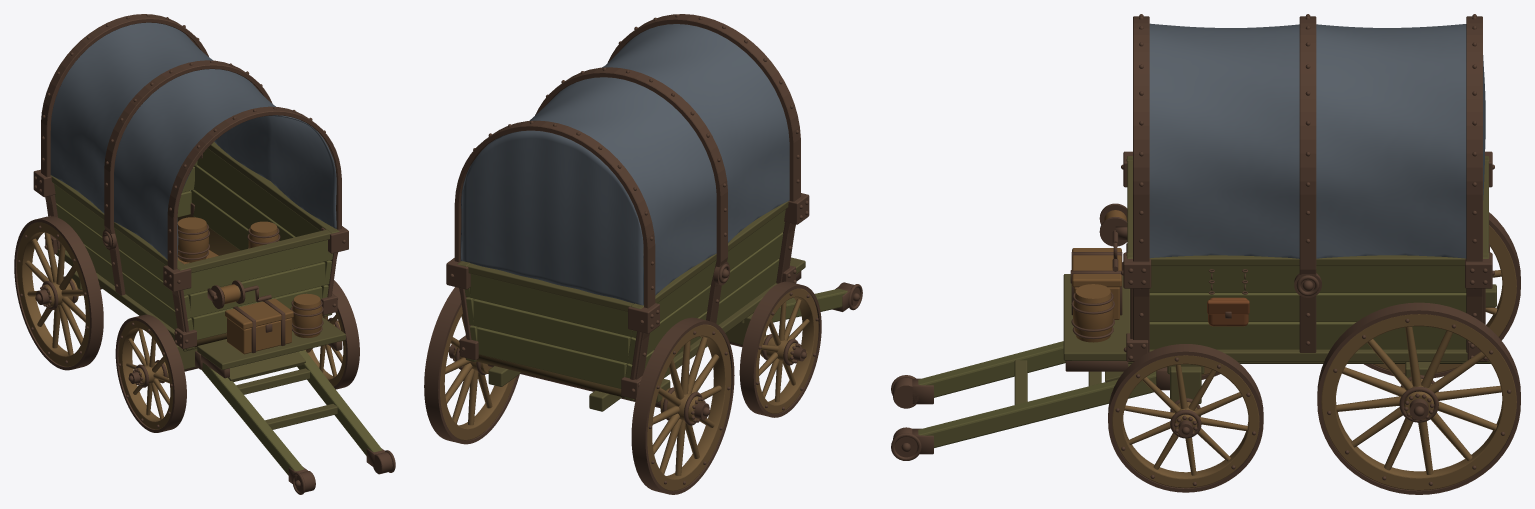
3 views of the same model, side by side, from view 1: azimuth 30°, elevation 25°; view 2: azimuth 150°, elevation 25°; view 3: azimuth 270°, elevation 25° (orthographic). The views are drawn at different scales.
Visible parts, largest first — view 1: Canvas_Cover, Canvas_Hoop_3, Canvas_Hoop_2, Rear_Wheel_R_Felloe, Rear_Wheel_R_Iron_Tire, Front_Wall_Plank_3, Canvas_Hoop_1, Corner_Iron_Brackets, Side_Plank_L3, Rear_Wheel_R_Spokes, Front_Wall_Plank_2, Front_Ledge_Board (+33 smaller); view 2: Canvas_Cover, Canvas_Back_Panel, Canvas_Hoop_1, Back_Wall_Plank_2, Canvas_Hoop_3, Rear_Wheel_R_Felloe, Canvas_Hoop_2, Back_Wall_Plank_1, Back_Wall_Plank_3, Rear_Wheel_R_Iron_Tire, Rear_Wheel_R_Spokes, Corner_Iron_Brackets (+17 smaller); view 3: Canvas_Cover, Rear_Wheel_L_Felloe, Side_Plank_L3, Rear_Wheel_L_Spokes, Side_Plank_L2, Side_Plank_L1, Canvas_Hoop_2, Canvas_Hoop_3, Front_Wheel_L_Felloe, Draw_Shaft_L, Canvas_Hoop_1, Rear_Wheel_L_Iron_Tire (+18 smaller).
Part boxes in pixels (<box>): Canvas_Cover: <box>50,22,336,260</box>; Canvas_Hoop_3: <box>167,106,341,331</box>; Canvas_Hoop_2: <box>104,60,272,295</box>; Rear_Wheel_R_Felloe: <box>17,222,89,366</box>; Rear_Wheel_R_Iron_Tire: <box>14,216,103,370</box>; Front_Wall_Plank_3: <box>187,240,328,294</box>; Canvas_Hoop_1: <box>41,14,208,249</box>; Corner_Iron_Brackets: <box>33,154,348,349</box>; Side_Plank_L3: <box>197,148,333,260</box>; Rear_Wheel_R_Spokes: <box>25,232,85,355</box>; Front_Wall_Plank_2: <box>188,262,325,317</box>; Front_Ledge_Board: <box>197,317,345,369</box>; Canvas_Cover: <box>460,24,789,305</box>; Canvas_Back_Panel: <box>462,130,643,305</box>; Canvas_Hoop_1: <box>454,120,655,379</box>; Back_Wall_Plank_2: <box>473,299,631,363</box>; Canvas_Hoop_3: <box>608,14,800,283</box>; Rear_Wheel_R_Felloe: <box>647,324,731,491</box>; Canvas_Hoop_2: <box>535,67,727,323</box>; Back_Wall_Plank_1: <box>477,327,627,388</box>; Back_Wall_Plank_3: <box>470,274,632,336</box>; Rear_Wheel_R_Iron_Tire: <box>631,317,734,494</box>; Rear_Wheel_R_Spokes: <box>652,337,721,475</box>; Corner_Iron_Brackets: <box>446,193,809,399</box>; Canvas_Cover: <box>1149,23,1466,258</box>; Rear_Wheel_L_Felloe: <box>1321,314,1516,490</box>; Side_Plank_L3: <box>1149,266,1466,292</box>; Rear_Wheel_L_Spokes: <box>1336,326,1501,474</box>; Side_Plank_L2: <box>1149,293,1466,321</box>; Side_Plank_L1: <box>1149,322,1466,349</box>; Canvas_Hoop_2: <box>1299,16,1316,352</box>; Canvas_Hoop_3: <box>1133,16,1149,352</box>; Front_Wheel_L_Felloe: <box>1112,355,1259,488</box>; Draw_Shaft_L: <box>918,371,1156,447</box>; Canvas_Hoop_1: <box>1466,16,1482,352</box>; Rear_Wheel_L_Iron_Tire: <box>1317,302,1520,494</box>.
Size of the model in its own units: 0.5467 by 0.713 by 1.
